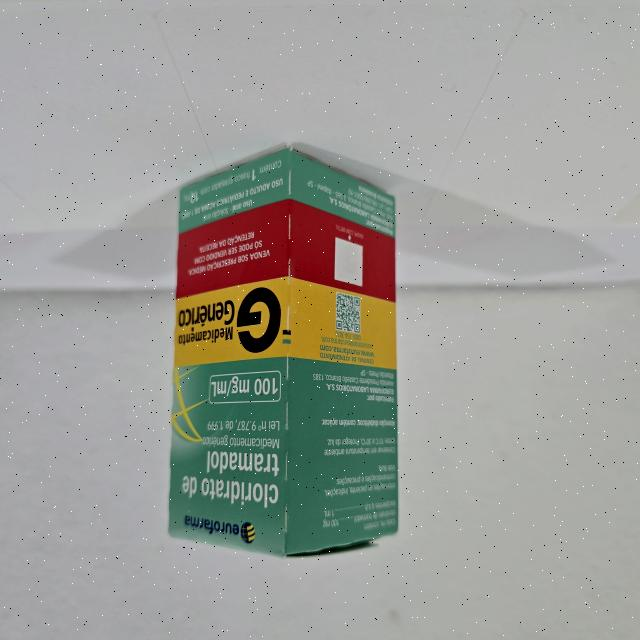tramadol: (165, 139, 406, 565)
